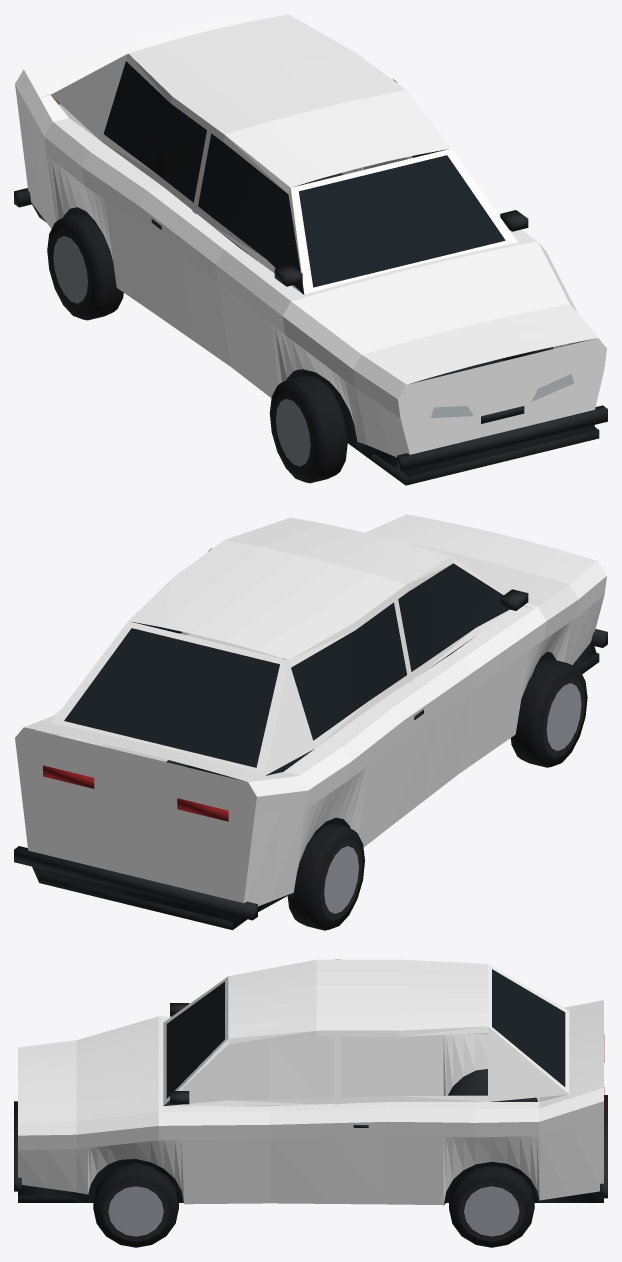
File: feldhaus_campina.glb
3 renders of one model, top to bottom at view 1: azimuth 30°, elevation 25°; view 2: azimuth 150°, elevation 25°; view 3: azimuth 270°, elevation 25°, orthographic. The views are drawn at different scales.
Visible parts, largest first — view 1: Body_Paint, Body_Details, Mount_FrontLeft_Wheel_Details, Mount_RearLeft_Wheel_Details; view 2: Body_Paint, Body_Details, Mount_FrontLeft_Wheel_Details, Mount_RearLeft_Wheel_Details; view 3: Body_Paint, Body_Details, Mount_FrontRight_Wheel_Details, Mount_RearRight_Wheel_Details.
Part boxes in pixels (x1,y1,x2,y2): Body_Paint: (15, 14, 606, 457); Body_Details: (14, 61, 607, 485); Mount_FrontLeft_Wheel_Details: (269, 375, 347, 483); Mount_RearLeft_Wheel_Details: (47, 213, 123, 320); Body_Paint: (15, 514, 606, 906); Body_Details: (14, 563, 607, 930); Mount_FrontLeft_Wheel_Details: (510, 659, 587, 767); Mount_RearLeft_Wheel_Details: (287, 823, 364, 930); Body_Paint: (18, 959, 603, 1205); Body_Details: (14, 969, 607, 1204); Mount_FrontRight_Wheel_Details: (93, 1163, 178, 1247); Mount_RearRight_Wheel_Details: (449, 1165, 534, 1247).
Bounding box in the file's own units: 1.69 × 1.53 × 4.03.
Materials: 2 (1 with a texture image).
